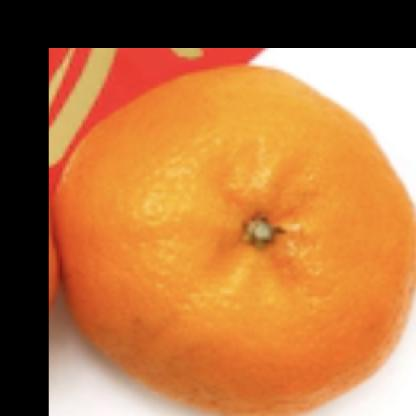fresh: (51, 65, 416, 416)
